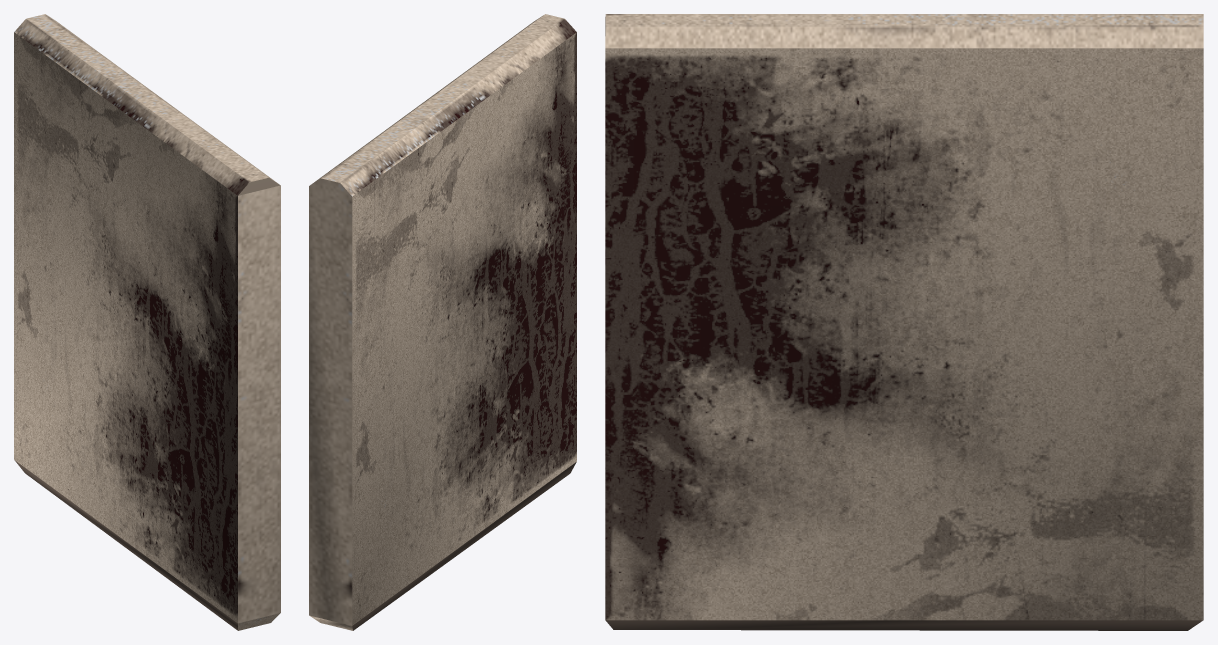
Rendered from Wall22.FBX.
The picture shows the model from 3 angles, left to right: view 1: azimuth 30°, elevation 25°; view 2: azimuth 150°, elevation 25°; view 3: azimuth 270°, elevation 25°; orthographic projection. The views are drawn at different scales.
Parts seen in each view (by area): view 1: Wall11; view 2: Wall11; view 3: Wall11.
Part boxes in pixels (x1=…): Wall11: x1=14, y1=14, x2=280, y2=630; Wall11: x1=309, y1=14, x2=576, y2=630; Wall11: x1=605, y1=14, x2=1203, y2=630.
Size of the model in its own units: 35 by 349 by 316.
